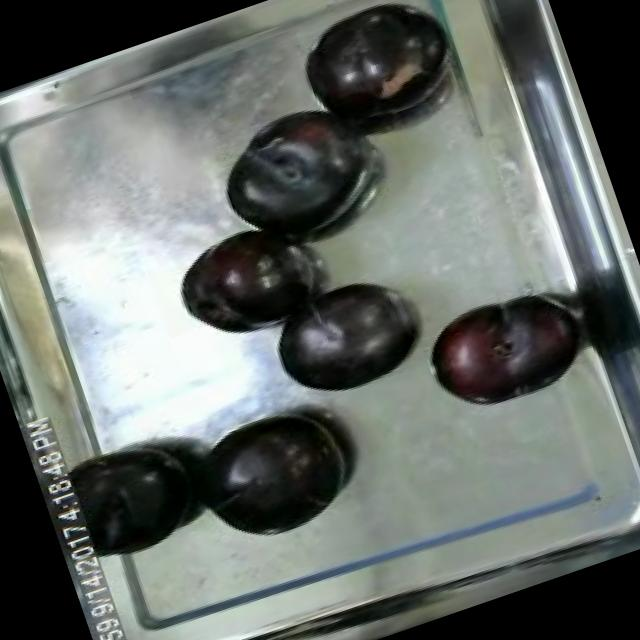Fruit: (170, 388, 369, 562), (204, 92, 388, 264), (411, 274, 594, 428), (254, 262, 432, 418), (47, 421, 214, 576), (284, 0, 455, 140), (160, 215, 312, 356)
